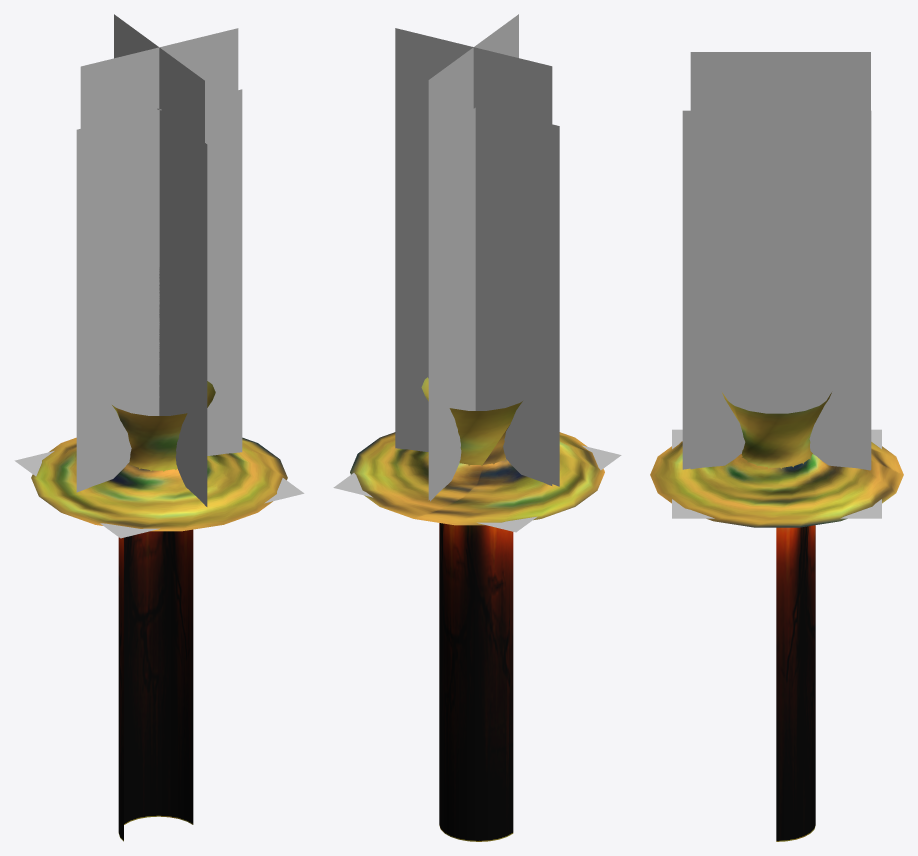
File: chengjie_gai.FBX
3 views of the same model, side by side, from view 1: azimuth 30°, elevation 25°; view 2: azimuth 150°, elevation 25°; view 3: azimuth 270°, elevation 25° (orthographic).
Visible parts, largest first — view 1: 4_2, 3_1, 2_2, 4_3, 2_1, 4_1; view 2: 4_3, 3_1, 4_2, 2_2, 2_1, 4_1; view 3: 4_3, 2_2, 3_1, 2_1, 4_2, 4_1.
Part boxes in pixels (left/top/right/bottom): 4_2: left=76, top=89, right=242, bottom=506; 3_1: left=118, top=529, right=193, bottom=841; 2_2: left=31, top=437, right=287, bottom=531; 4_3: left=80, top=14, right=238, bottom=142; 2_1: left=112, top=381, right=215, bottom=471; 4_1: left=14, top=451, right=304, bottom=538; 4_3: left=395, top=14, right=552, bottom=500; 3_1: left=439, top=523, right=513, bottom=841; 4_2: left=430, top=107, right=559, bottom=501; 2_2: left=350, top=432, right=604, bottom=525; 2_1: left=421, top=377, right=522, bottom=465; 4_1: left=333, top=445, right=621, bottom=532; 4_3: left=690, top=52, right=870, bottom=470; 2_2: left=650, top=441, right=903, bottom=527; 3_1: left=776, top=525, right=815, bottom=841; 2_1: left=722, top=392, right=831, bottom=468; 4_2: left=682, top=110, right=871, bottom=469; 4_1: left=672, top=429, right=881, bottom=518.
Bounding box in the file's own units: 9.51 × 32.52 × 9.66.
